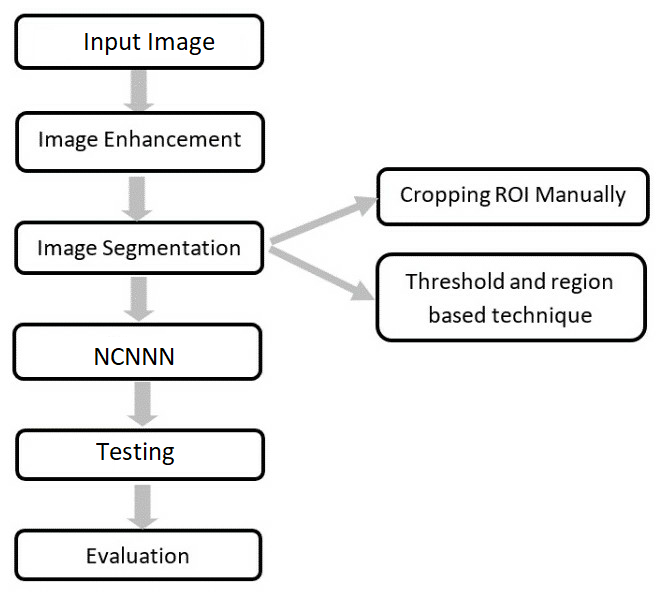arrow: (263, 242, 378, 302), (268, 192, 380, 248), (118, 173, 156, 224), (120, 274, 157, 323), (125, 380, 158, 431), (125, 481, 158, 532), (121, 67, 154, 114)
process: (372, 252, 650, 344), (10, 107, 267, 176), (373, 165, 654, 228), (10, 8, 267, 73), (7, 319, 264, 382), (10, 218, 267, 277), (13, 426, 268, 483), (12, 525, 262, 580)
text: (401, 269, 619, 327), (398, 183, 628, 209), (35, 127, 246, 154), (35, 238, 241, 260), (80, 30, 218, 57), (92, 440, 177, 467), (82, 543, 187, 563), (92, 345, 177, 368)
